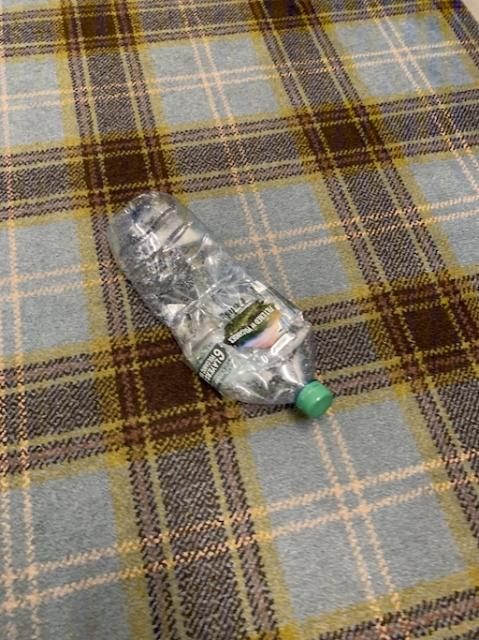plastic: (107, 191, 332, 416)
